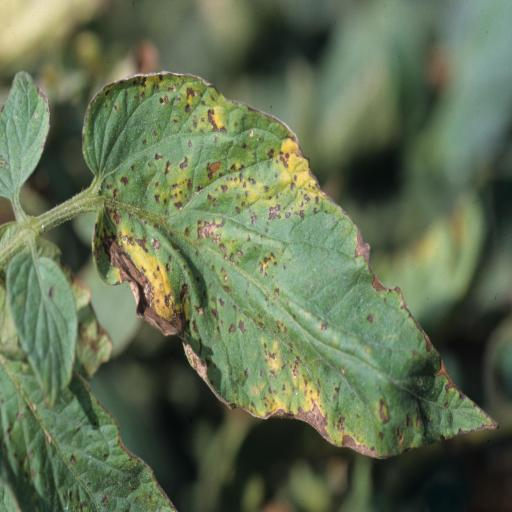Bacterial Spot: (72, 62, 509, 461)
